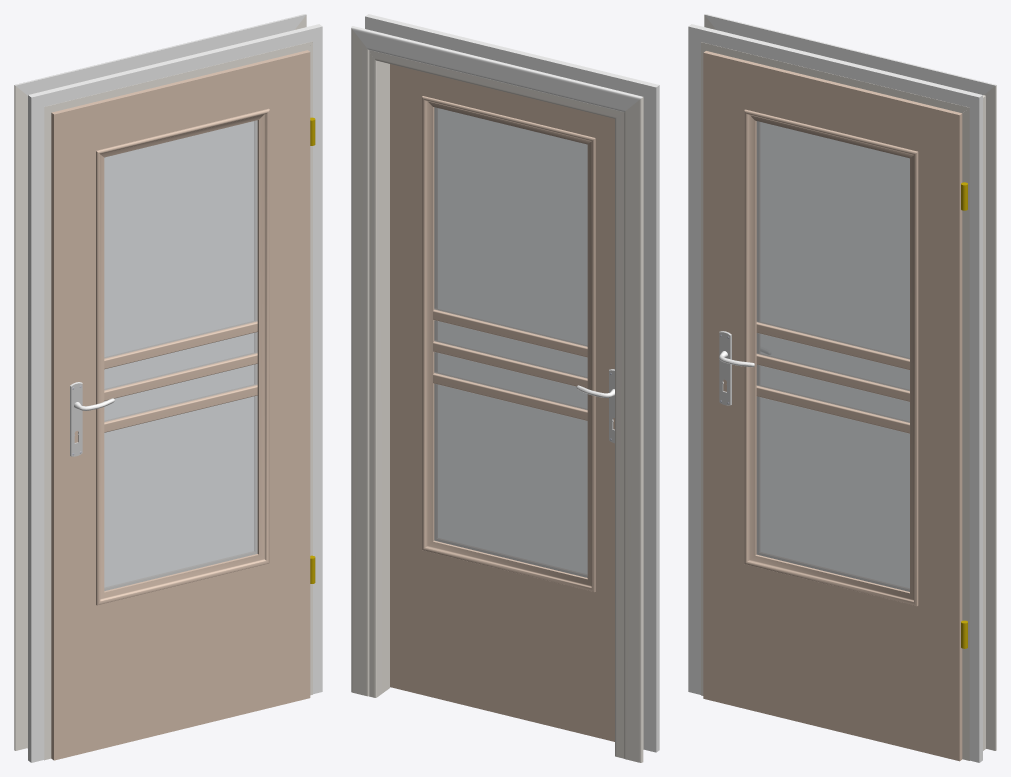
Rendered from glass_door.glb.
The picture shows the model from 3 angles, left to right: view 1: azimuth 30°, elevation 25°; view 2: azimuth 150°, elevation 25°; view 3: azimuth 330°, elevation 25°; orthographic projection.
Parts seen in each view (by area): view 1: Object_6, Object_2, Object_3, Object_9, Object_7, Object_4, Object_11; view 2: Object_6, Object_2, Object_9, Object_7, Object_3, Object_4; view 3: Object_6, Object_2, Object_3, Object_7, Object_9, Object_4, Object_11.
Boxes of the visible parts, x1,y1,x2,y2 form: Object_6: (51,50,310,760); Object_2: (104,120,257,590); Object_3: (28,24,322,762); Object_9: (14,15,306,750); Object_7: (44,41,312,760); Object_4: (15,14,306,95); Object_11: (70,382,82,456); Object_6: (390,64,614,741); Object_2: (434,107,587,577); Object_9: (351,28,643,762); Object_7: (369,50,643,758); Object_3: (365,14,659,752); Object_4: (351,26,642,111); Object_6: (703,51,962,761); Object_2: (756,121,909,591); Object_3: (688,24,982,762); Object_7: (701,42,985,760); Object_9: (704,15,996,750); Object_4: (704,14,995,95); Object_11: (719,331,731,405).
Bounding box in the file's own units: 96 × 210 × 17.03.
